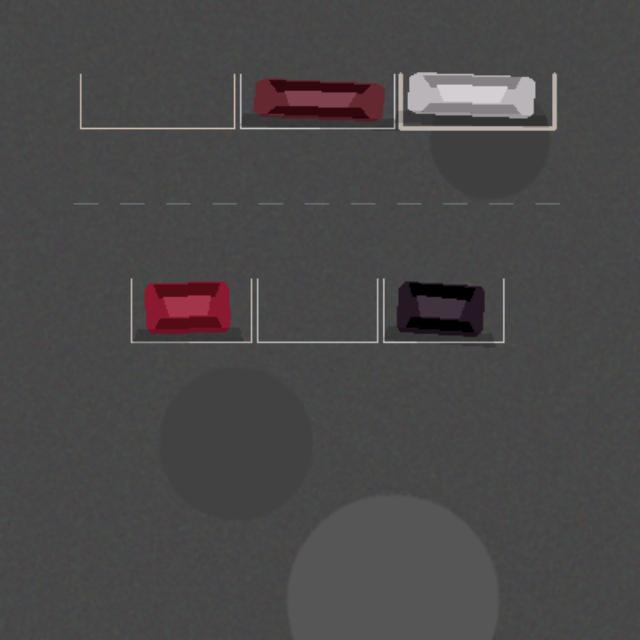space-empty: (80, 74, 234, 128), (257, 278, 377, 342)
space-occupied: (240, 74, 394, 128), (400, 74, 554, 128), (131, 278, 251, 342), (383, 278, 503, 342)
